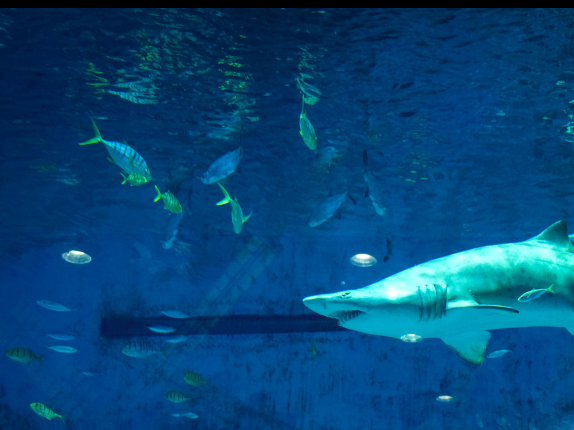fishLarge: (79, 116, 152, 184), (214, 181, 253, 235), (307, 187, 357, 228), (359, 149, 388, 217), (201, 146, 245, 187), (297, 94, 318, 151), (120, 339, 169, 361), (27, 401, 69, 426), (153, 183, 183, 215), (4, 345, 46, 367), (182, 369, 212, 388), (163, 388, 193, 405), (120, 172, 148, 188)
fishSmall: (34, 297, 83, 316), (517, 283, 555, 305), (39, 326, 78, 343), (155, 305, 192, 320), (42, 340, 80, 354), (146, 322, 177, 336), (485, 347, 509, 363), (163, 336, 187, 346)
shark: (301, 220, 574, 368)
